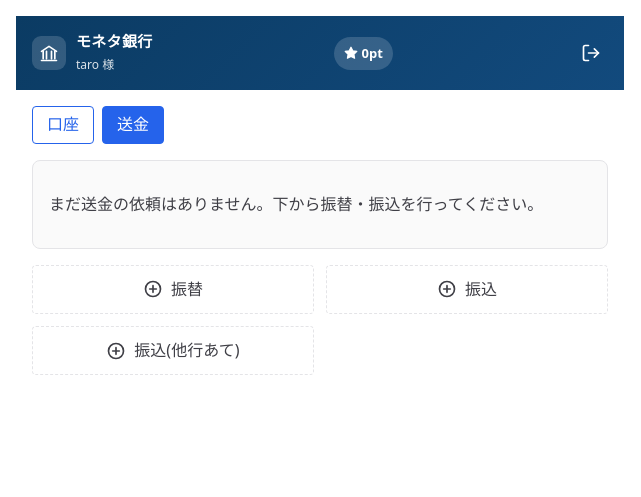
Test: 振込(他行あて)は非機能なプレースホルダ(docs/adr/0015決定7) › 選択すると案内文のみを表示し、振込フォーム(TransferForm)は出さない
Click the button "振込(他行あて)": point(173, 351) left=32, top=326, right=314, bottom=375
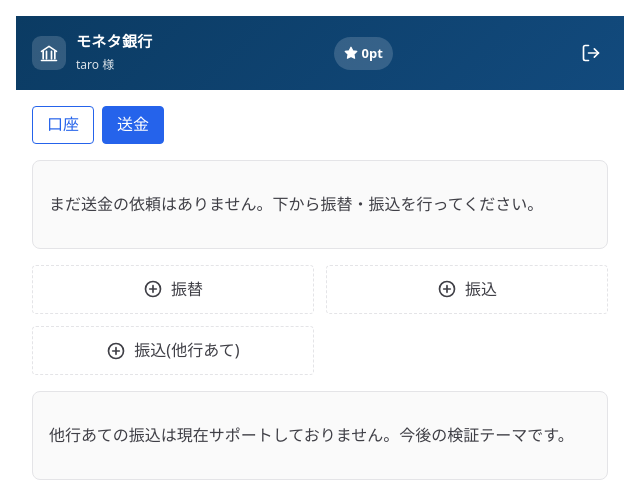
Expected: the text "他行あての振込は現在サポートしておりません。今後の検証テーマです。" is shown, left=49, top=424, right=591, bottom=447
